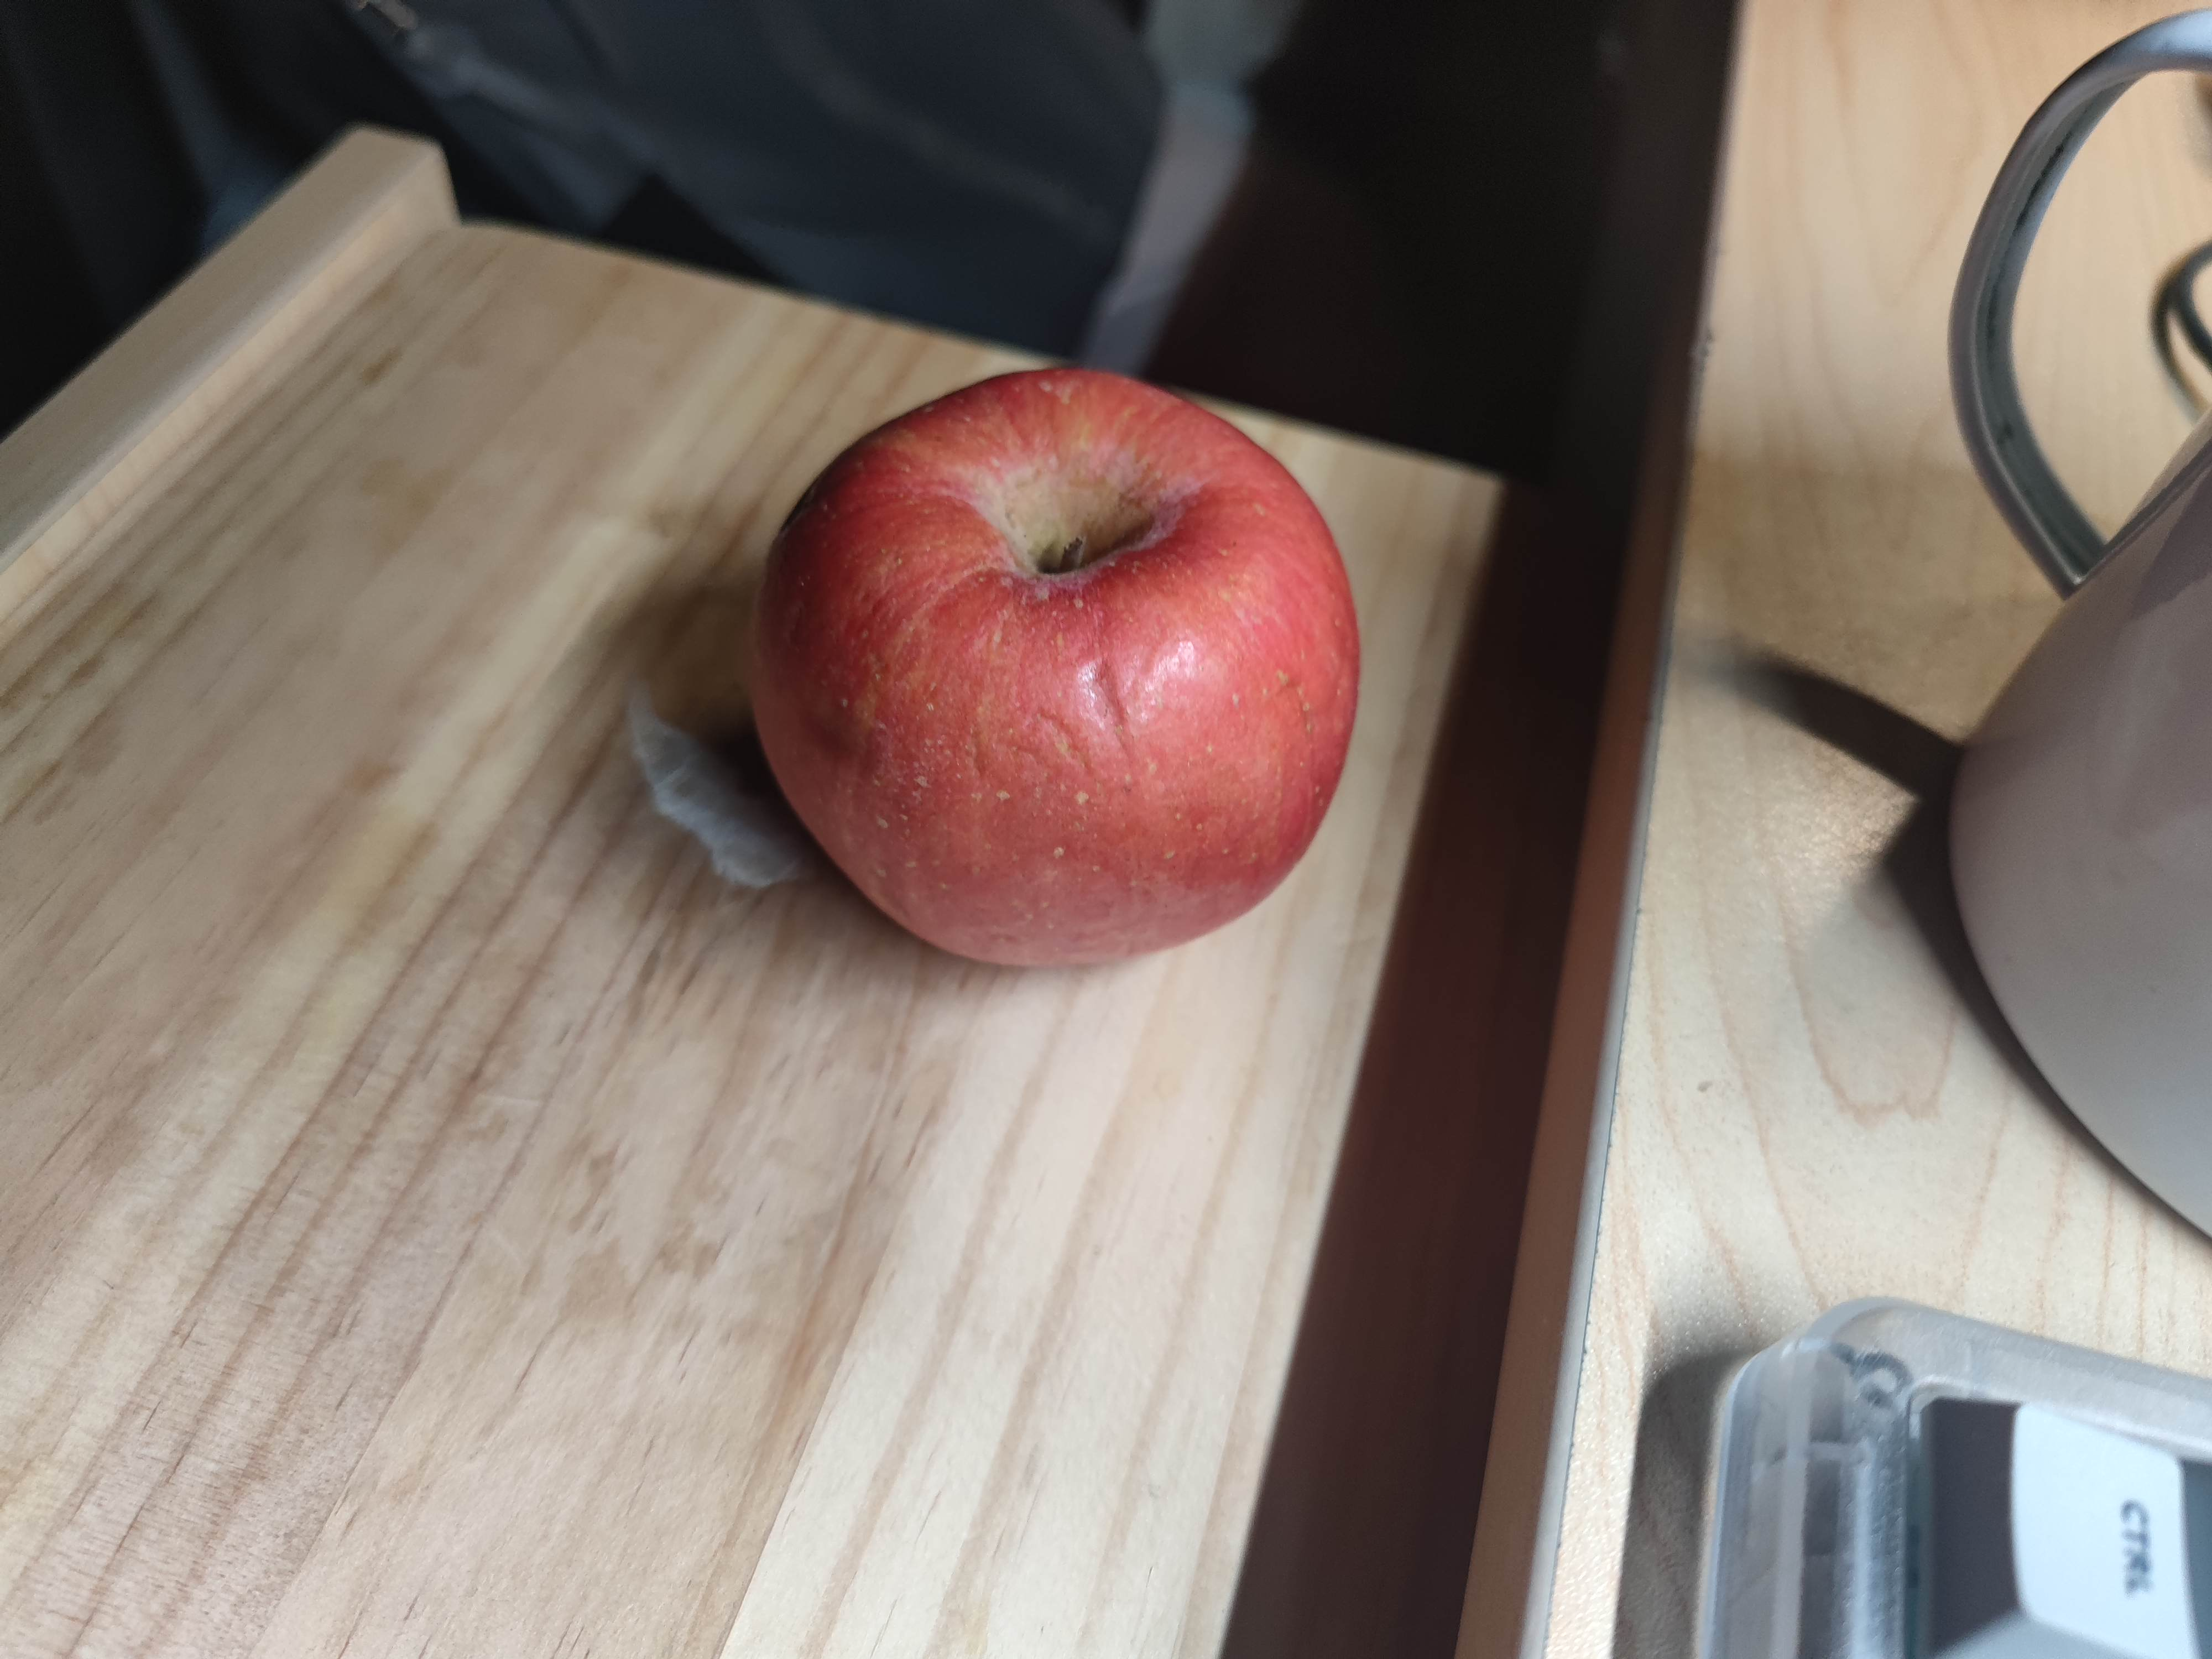apple: (754, 354, 1367, 988)
